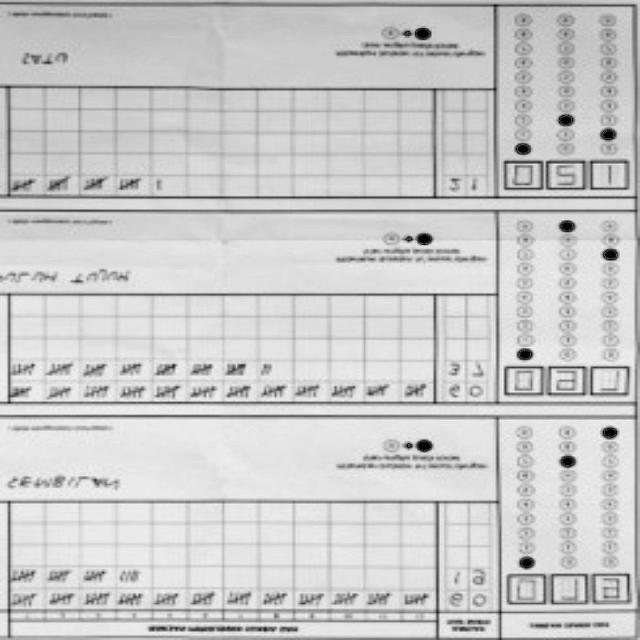Suara: (499, 158, 630, 198), (501, 362, 631, 401), (502, 570, 633, 608)
